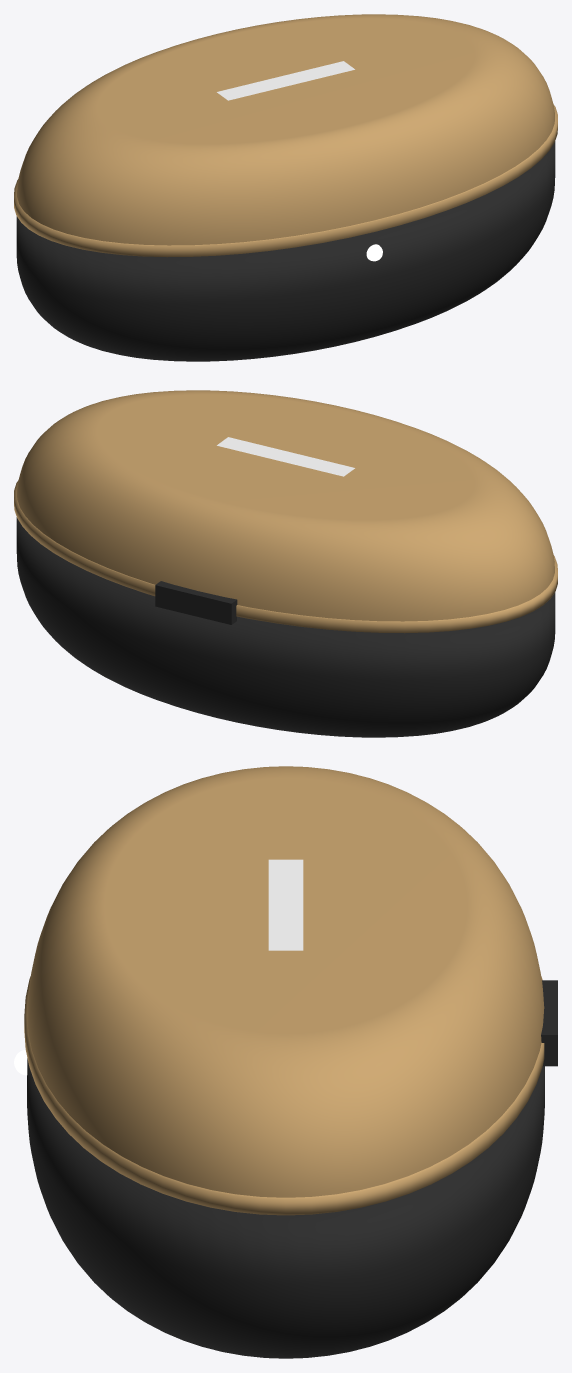
File: earbuds.glb
3 renders of one model, top to bottom at view 1: azimuth 30°, elevation 25°; view 2: azimuth 150°, elevation 25°; view 3: azimuth 270°, elevation 25°, orthographic. The views are drawn at different scales.
Bounding box in the file's own units: 1.01 × 0.401 × 0.63.
